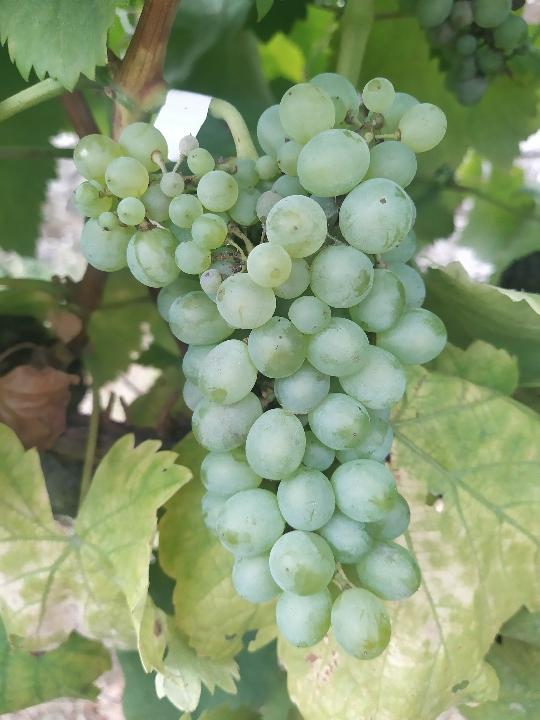grape: (69, 69, 450, 664)
